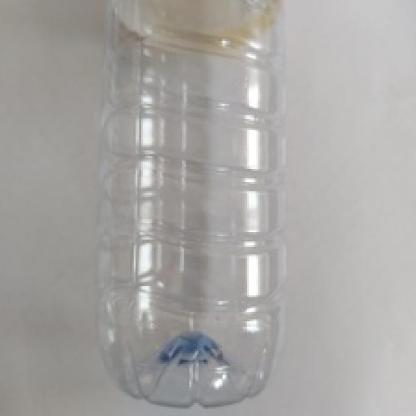Plastic Bottle: (94, 0, 288, 408)
